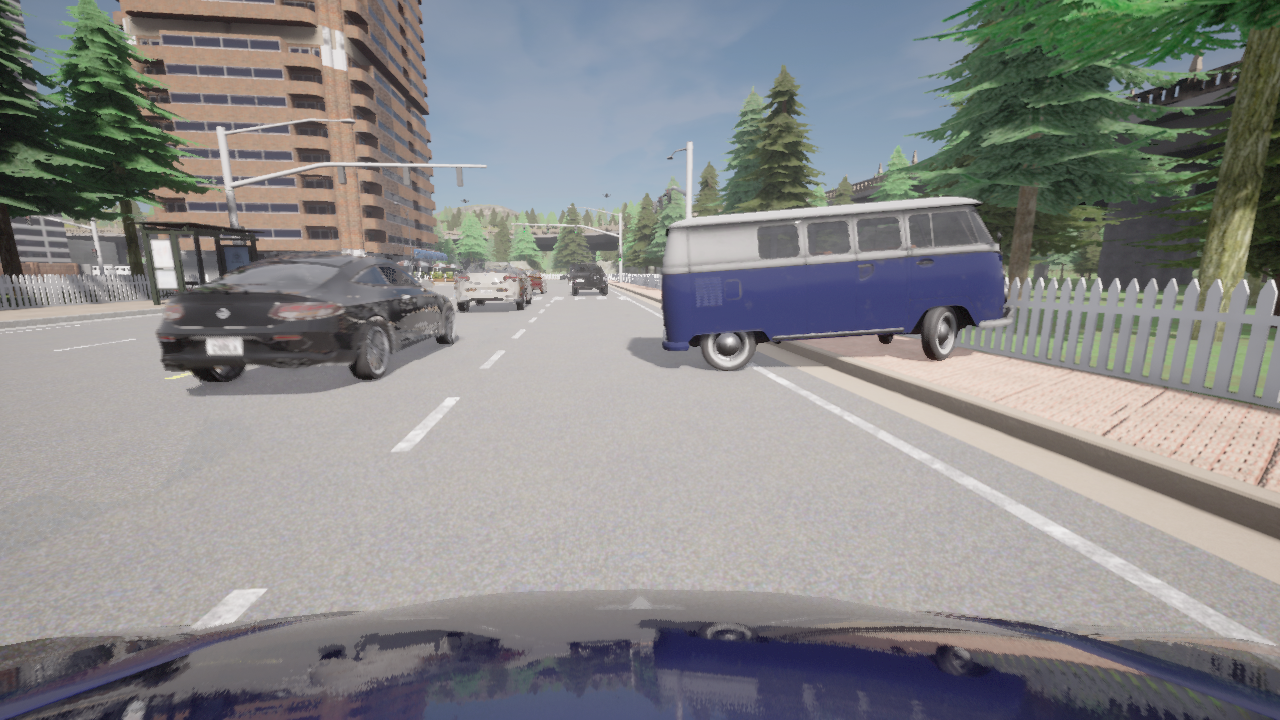cyclist: (0, 588, 1279, 719), (661, 197, 1013, 371), (156, 253, 455, 382), (455, 260, 531, 310), (572, 262, 606, 294), (519, 268, 547, 294), (78, 264, 116, 277), (104, 264, 130, 274), (558, 272, 574, 280)
pedestrian: (452, 274, 457, 297)
